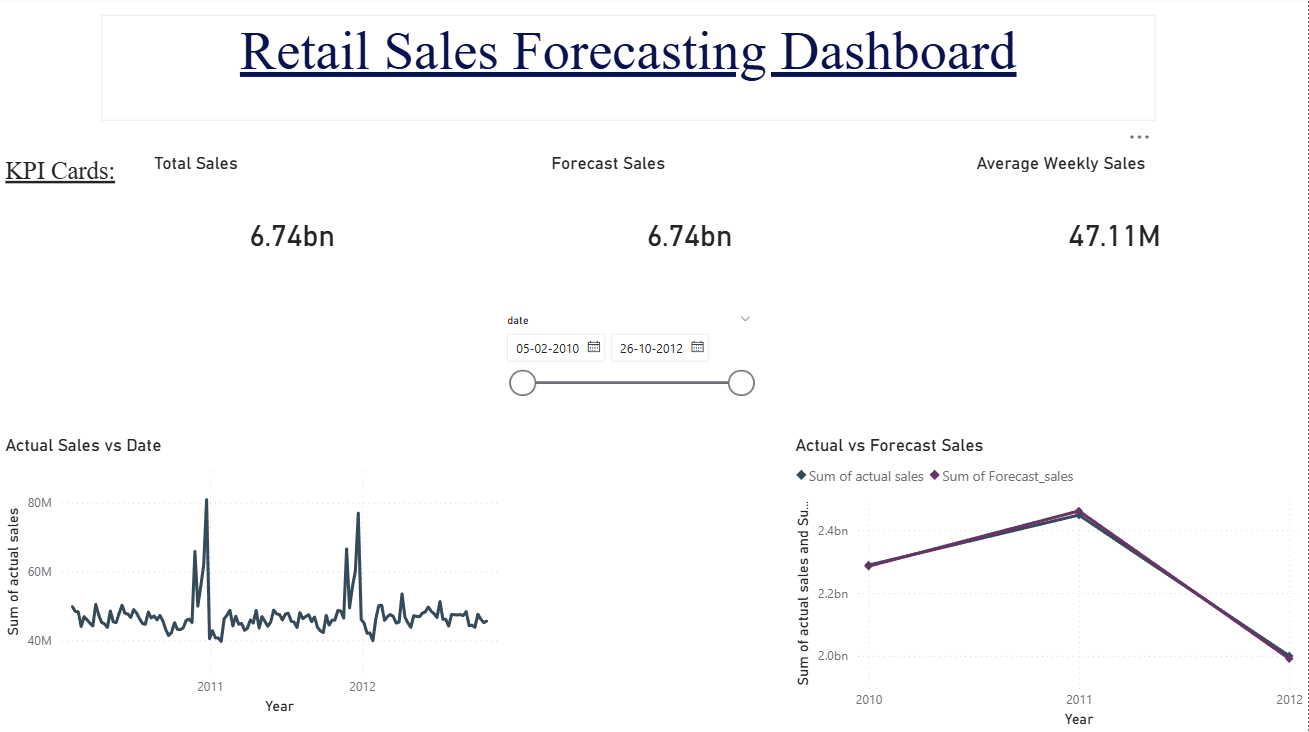

What the dashboard file says about the page in this screenshot:
{"tool":"powerbi","page":{"name":"Page 1","canvas":[1280,720],"ordinal":0},"visuals":[{"type":"card","title":"Total Sales","fields":{"Values":["Sum(final_sales_forecast _.actual sales)"]},"box":[146.8,152.3,279.9,140],"z":0},{"type":"card","title":"Average Weekly Sales","fields":{"Values":["Avg(final_sales_forecast _.actual sales)"]},"box":[950.9,152.3,279.9,140],"z":1000},{"type":"card","title":"Forecast Sales","fields":{"Values":["Sum(final_sales_forecast _.Forecast_sales)"]},"box":[535.2,152.3,279.9,140],"z":2000},{"type":"lineChart","title":"Actual vs Forecast Sales","fields":{"Category":["final_sales_forecast _.date.Variation.Date Hierarchy.Year"],"Y":["Sum(final_sales_forecast _.actual sales)","Sum(final_sales_forecast _.Forecast_sales)"]},"box":[773.9,429.5,506.3,290.9],"z":3000},{"type":"lineChart","title":"Actual Sales vs Date","fields":{"Y":["Sum(final_sales_forecast _.actual sales)"],"Category":["final_sales_forecast _.date.Variation.Date Hierarchy.Year","final_sales_forecast _.date.Variation.Date Hierarchy.Quarter","final_sales_forecast _.date.Variation.Date Hierarchy.Month","final_sales_forecast _.date.Variation.Date Hierarchy.Day"]},"box":[1.4,429.5,494,278.6],"z":4000},{"type":"slicer","fields":{"Values":["final_sales_forecast _.date"]},"box":[484.4,306,263.5,105.7],"z":5000},{"type":"textbox","box":[100.2,17.8,1030.5,104.3],"z":6000},{"type":"textbox","box":[1.4,152.3,131.7,39.8],"z":7000}]}

Visuals, with their boxes in screenshot pixels (x1, y1, x2, y2), scaled from the page's 1280x720 canvas onto the 1309x732 screenshot:
"Total Sales" card: crop(150, 155, 436, 297)
"Average Weekly Sales" card: crop(972, 155, 1259, 297)
"Forecast Sales" card: crop(547, 155, 834, 297)
"Actual vs Forecast Sales" lineChart: crop(791, 437, 1308, 731)
"Actual Sales vs Date" lineChart: crop(1, 437, 507, 720)
slicer - final_sales_forecast _.date: crop(495, 311, 765, 419)
textbox: crop(102, 18, 1156, 124)
textbox: crop(1, 155, 136, 195)
